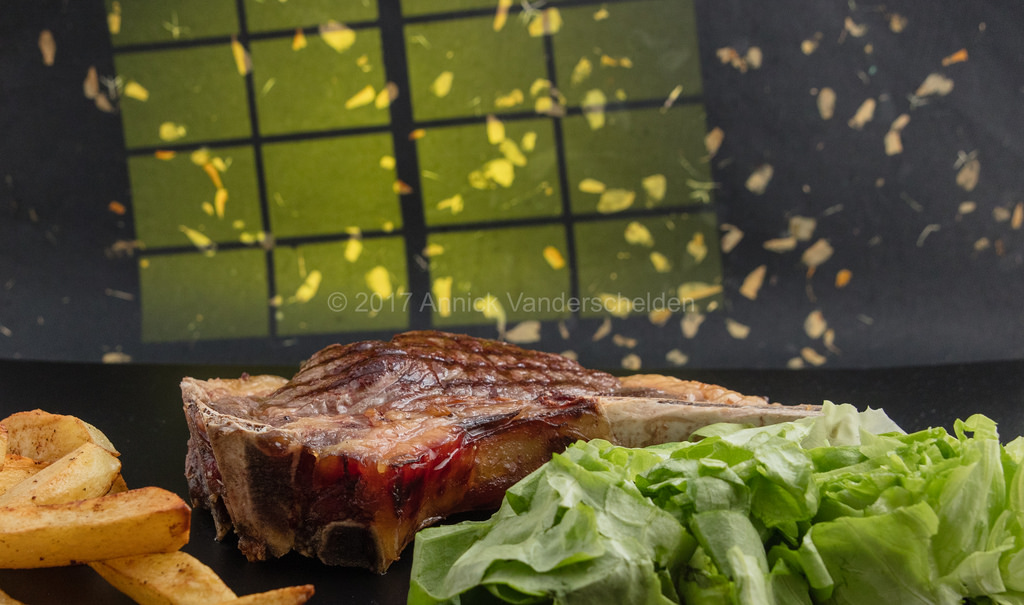chopped lettuce: (426, 437, 1024, 599)
